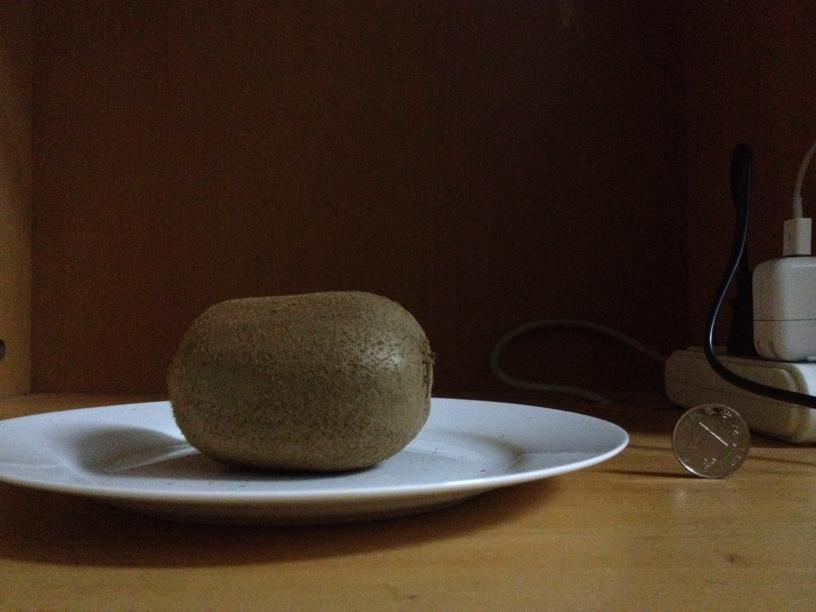coin: (669, 404, 750, 477)
qiwi: (171, 296, 434, 464)
